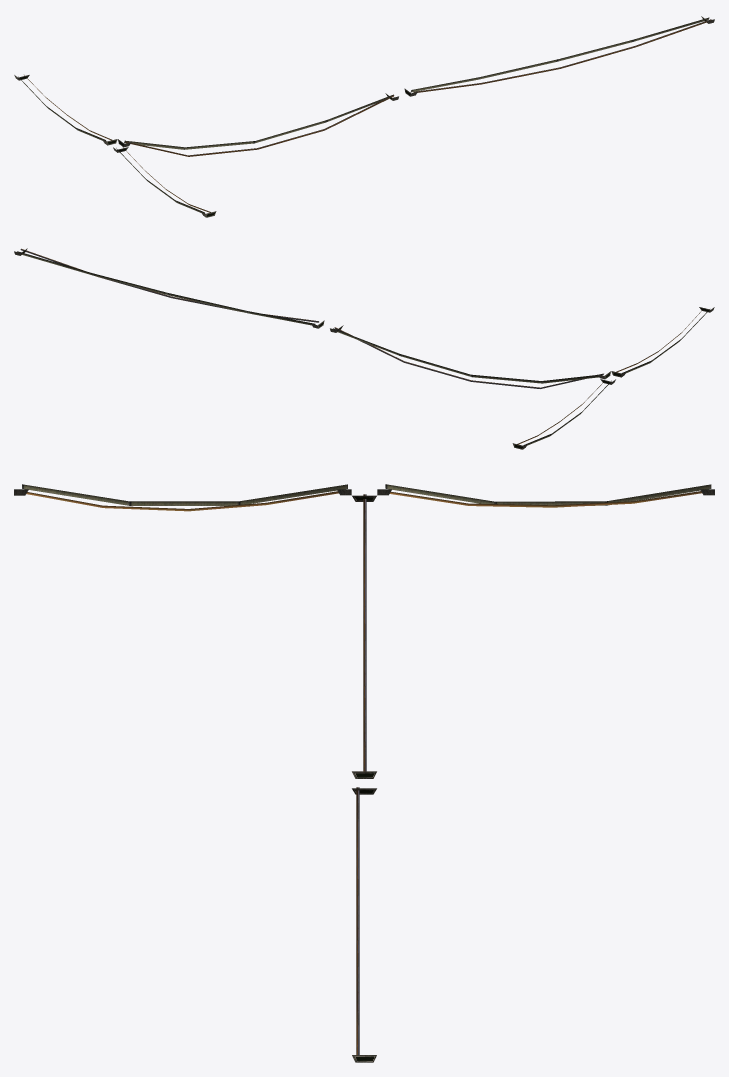
File: M12_TopPipes_G.glb
The picture shows the model from 3 angles, top to bottom: view 1: azimuth 30°, elevation 25°; view 2: azimuth 150°, elevation 25°; view 3: azimuth 270°, elevation 25°; orthographic projection. The views are drawn at different scales.
Visible parts, largest first — view 1: M12_TOPPIPES_G; view 2: M12_TOPPIPES_G; view 3: M12_TOPPIPES_G.
Part boxes in pixels (left/top/right/bottom): M12_TOPPIPES_G: left=14, top=16, right=714, bottom=217; M12_TOPPIPES_G: left=14, top=248, right=714, bottom=449; M12_TOPPIPES_G: left=14, top=484, right=714, bottom=1062.
Bounding box in the file's own units: 16.39 × 1.09 × 8.98.
1 material, 1 textured.
